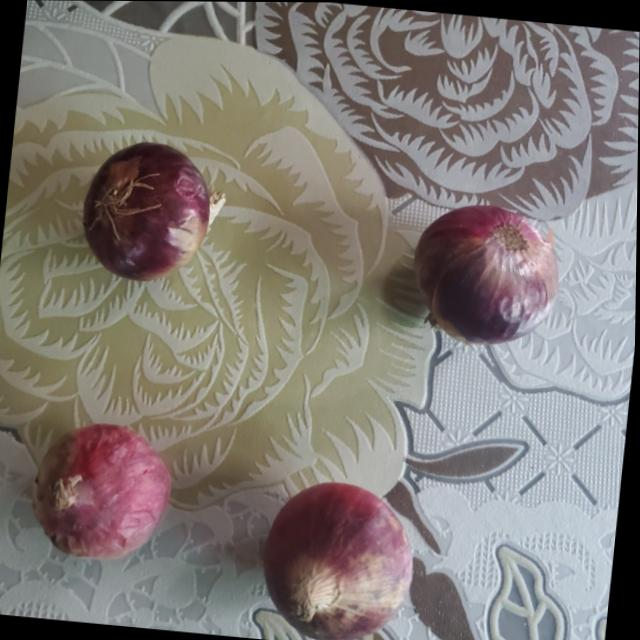onion: (256, 477, 417, 640), (404, 202, 560, 351), (30, 420, 178, 567), (78, 141, 217, 291)
